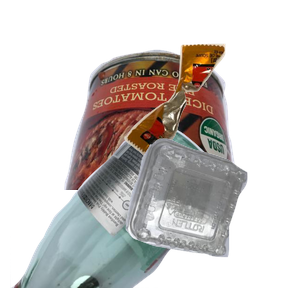glass: (10, 120, 224, 300)
metal: (62, 47, 300, 227)
plastic: (123, 136, 300, 300)
trash: (122, 41, 300, 190)
